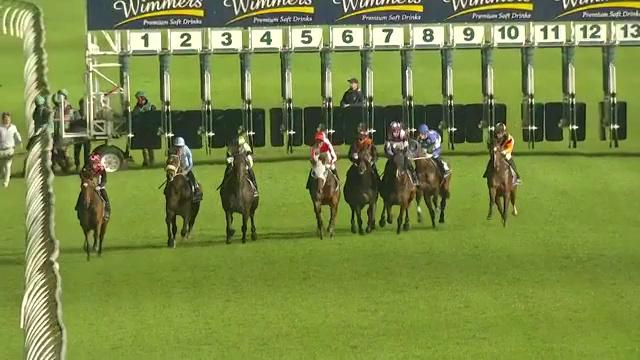racing-horse: (396, 116, 461, 239), (213, 122, 266, 259), (476, 118, 535, 239), (152, 130, 207, 259), (70, 143, 118, 273), (339, 112, 384, 249), (299, 121, 346, 243), (377, 116, 422, 242)
